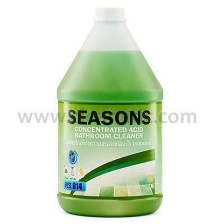cleaning_solution: (54, 3, 166, 221)
